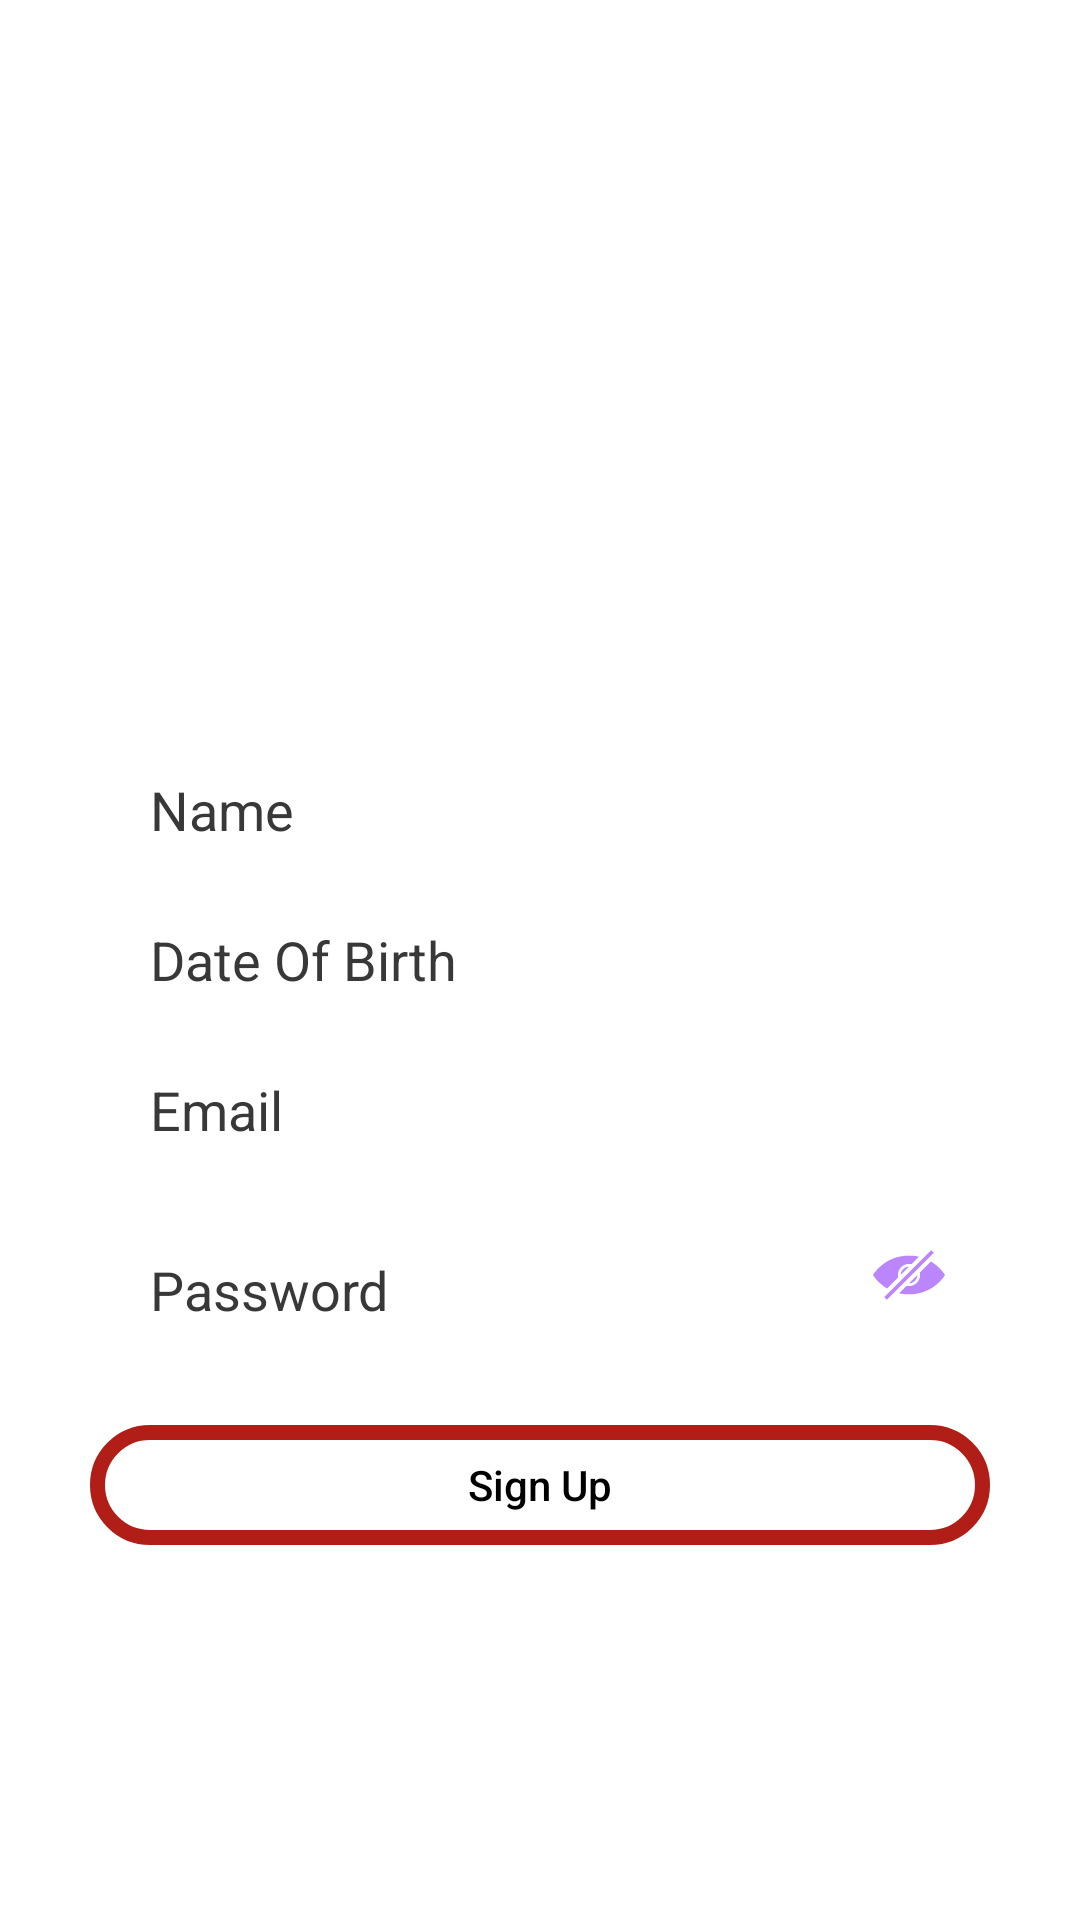

Icon bounding boxes for this 1080x1920 phone screenshot, format [x1=x1, y1=y1, x2=x2, y2=y2]:
pass invisible: [x1=873, y1=1250, x2=945, y2=1300]
